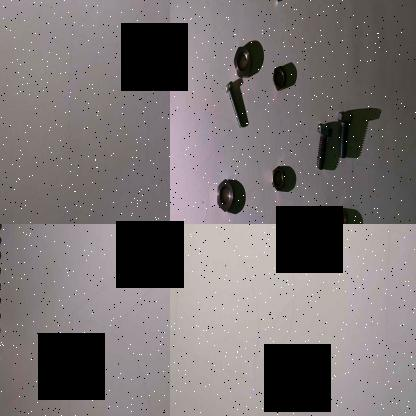Bolts: (220, 77, 245, 130), (332, 106, 354, 160), (314, 120, 332, 176), (272, 0, 306, 15)
NUTS: (214, 174, 235, 216), (233, 38, 254, 78), (266, 162, 290, 192), (270, 62, 288, 91), (327, 204, 352, 224)
